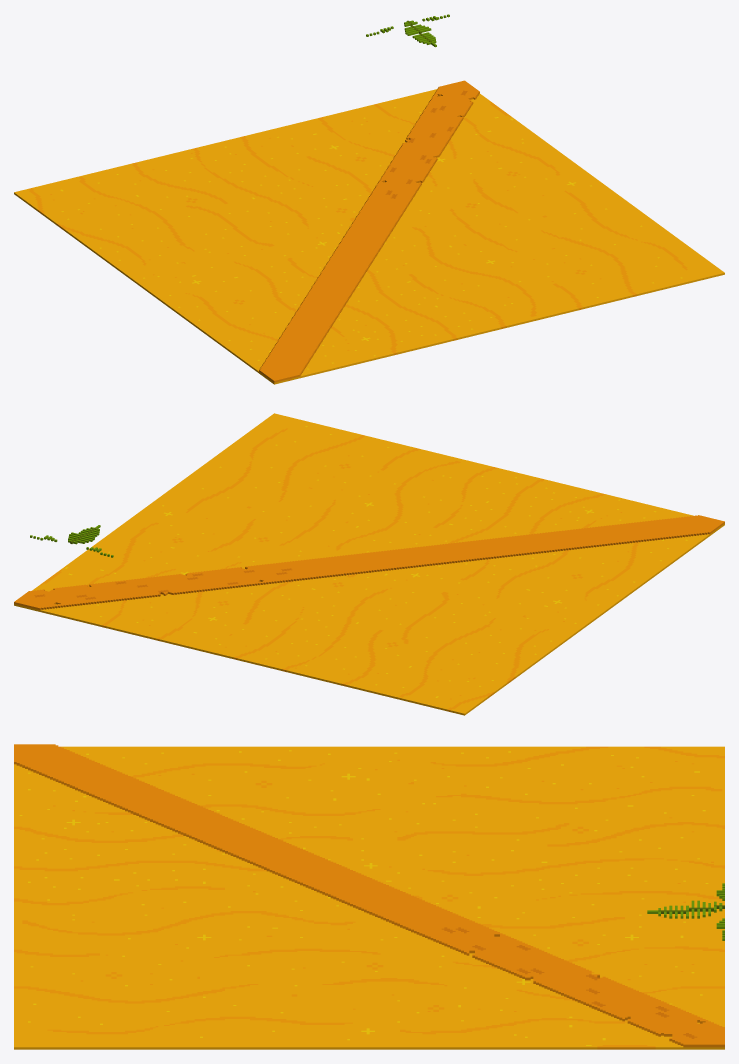
The model's file is shadow-1.obj.
3 views of the same model, one above another, from view 1: azimuth 30°, elevation 25°; view 2: azimuth 150°, elevation 25°; view 3: azimuth 270°, elevation 25° (orthographic). The views are drawn at different scales.
Bounding box in the file's own units: 25.6 × 4.2 × 25.6.
1 material, 1 textured.
